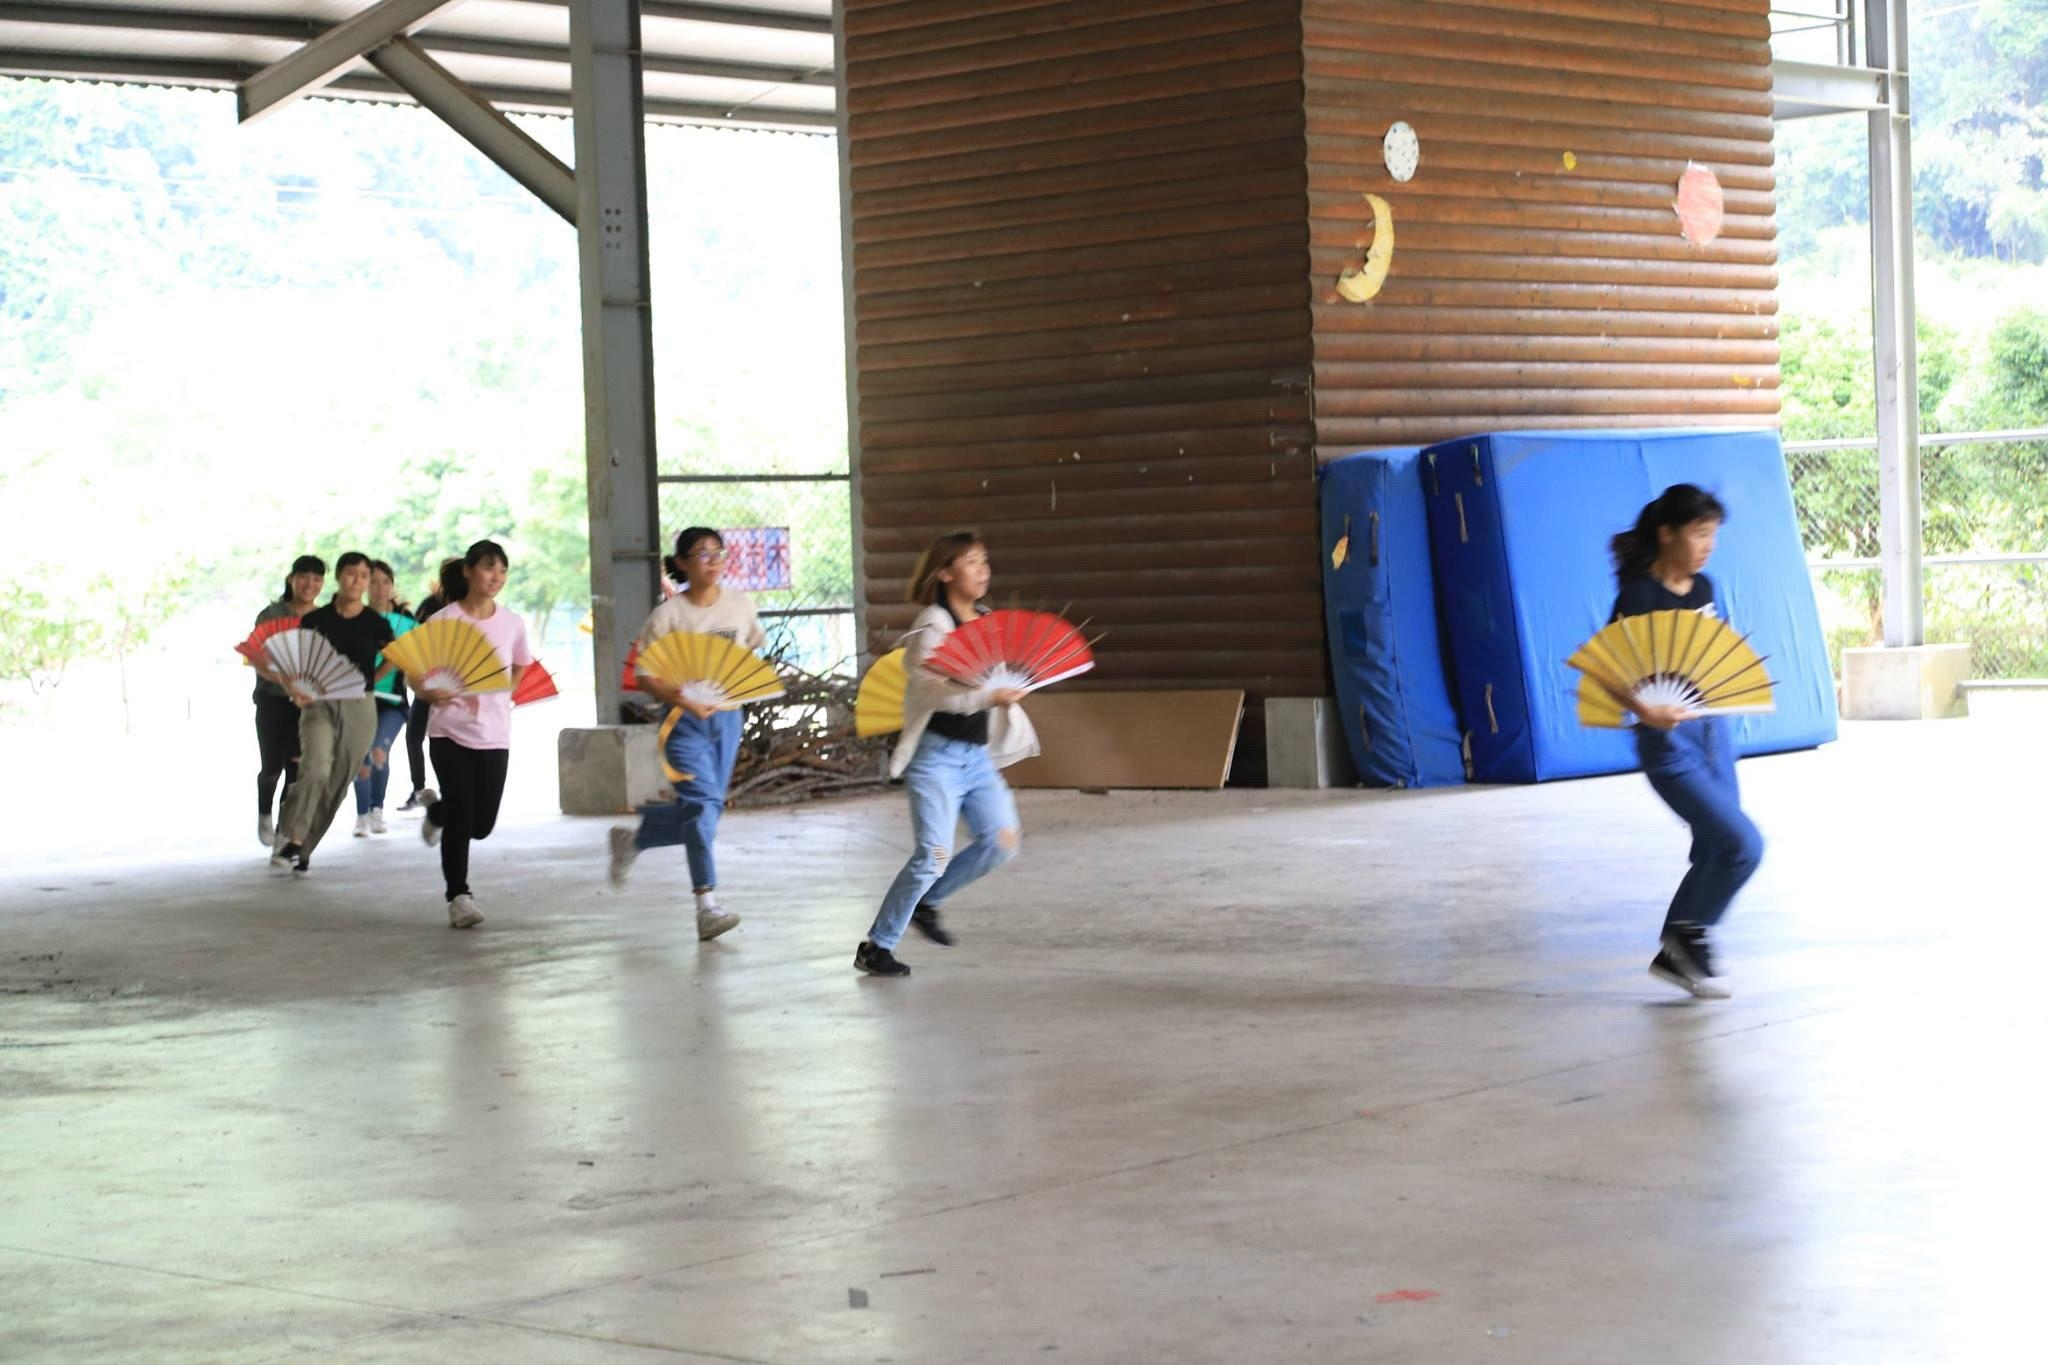people: (1613, 477, 1766, 963), (899, 507, 1010, 983), (643, 527, 737, 919), (440, 527, 519, 916), (307, 536, 393, 866), (266, 560, 331, 822)
